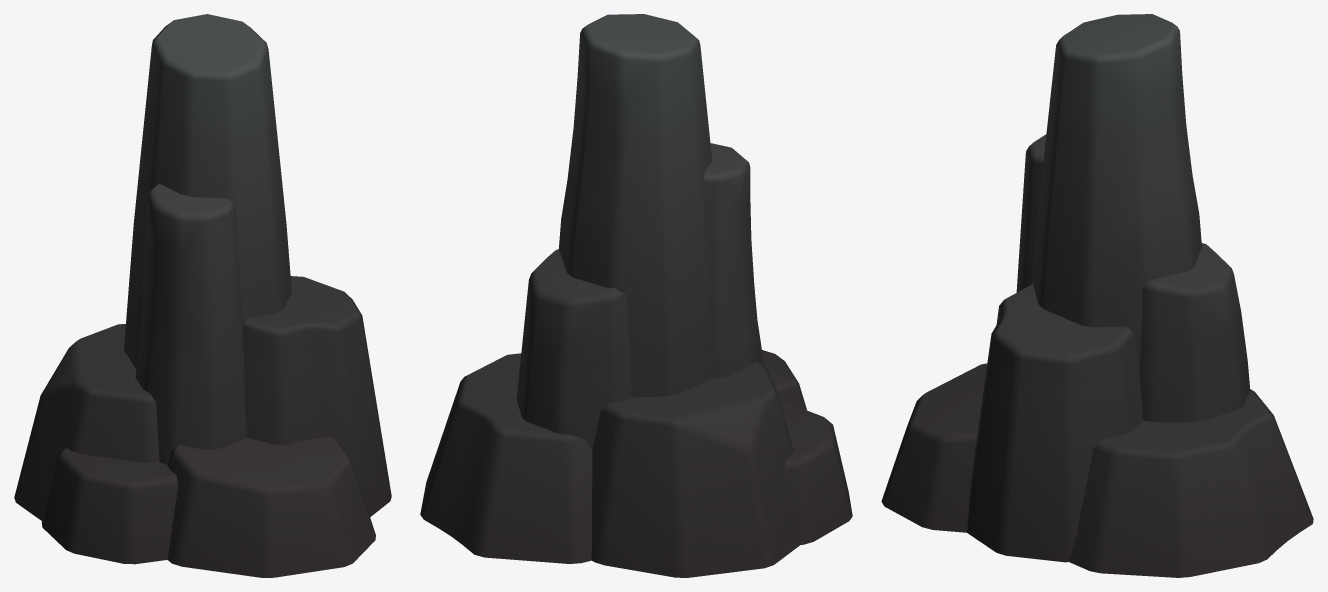
The model's file is inferno-rock-mid-002.glb.
The picture shows the model from 3 angles, left to right: view 1: azimuth 30°, elevation 25°; view 2: azimuth 150°, elevation 25°; view 3: azimuth 270°, elevation 25°; orthographic projection. The views are drawn at different scales.
Parts seen in each view (by area): view 1: RockMid_002; view 2: RockMid_002; view 3: RockMid_002.
Part boxes in pixels (x1,y1,x2,y2): RockMid_002: [14, 14, 391, 577]; RockMid_002: [420, 14, 852, 577]; RockMid_002: [881, 14, 1313, 577].
Size of the model in its own units: 9.5 by 11.94 by 10.05.
1 material, 1 textured.
